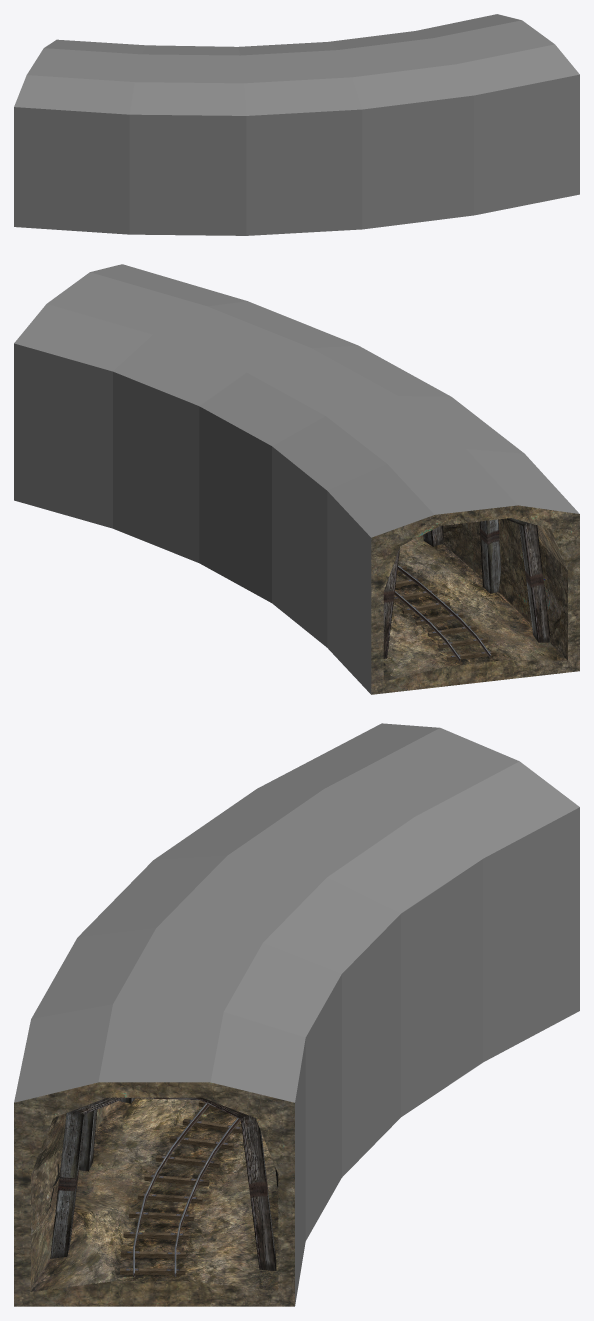
The model's file is svgoldmine06.dae.
3 views of the same model, one above another, from view 1: azimuth 30°, elevation 25°; view 2: azimuth 150°, elevation 25°; view 3: azimuth 270°, elevation 25° (orthographic). The views are drawn at different scales.
Parts seen in each view (by area): view 1: unnamed_object1_sep1178-0; view 2: unnamed_object1_sep1178-0, unnamed_object1_sep1087-0, unnamed_object1_sep644-0; view 3: unnamed_object1_sep1178-0, unnamed_object1_sep1087-0, unnamed_object1_sep644-0.
Boxes of the visible parts, bbox=[...] form: unnamed_object1_sep1178-0: bbox=[14, 14, 579, 235]; unnamed_object1_sep1178-0: bbox=[14, 264, 579, 694]; unnamed_object1_sep1087-0: bbox=[383, 518, 550, 658]; unnamed_object1_sep644-0: bbox=[393, 565, 496, 661]; unnamed_object1_sep1178-0: bbox=[14, 723, 579, 1306]; unnamed_object1_sep1087-0: bbox=[50, 1097, 278, 1270]; unnamed_object1_sep644-0: bbox=[120, 1100, 242, 1276].
Size of the model in its own units: 4792 by 1320 by 3021.
